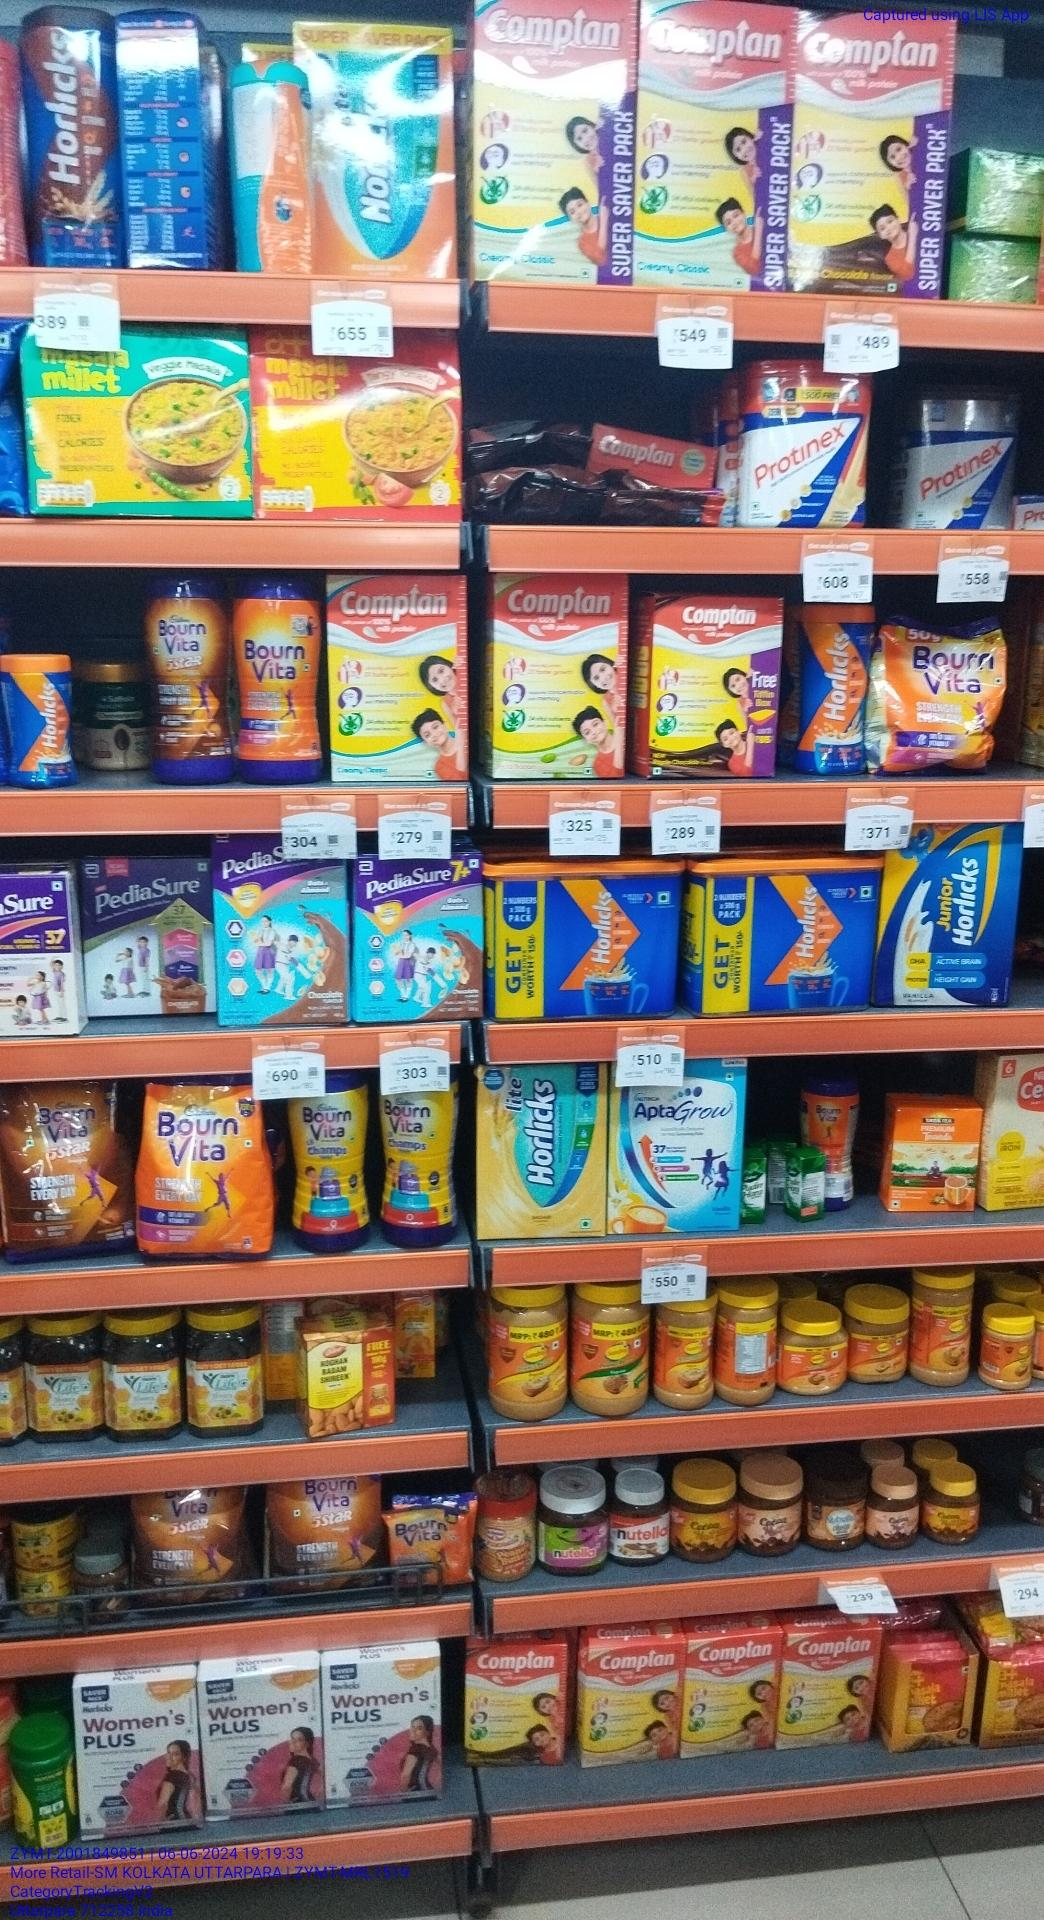BOURN_VITA_500_G_JAR: (234, 578, 315, 787)
BOURN_VITA_750_G_POUCH: (130, 1074, 267, 1270)
BOURN_VITA_CHAMPS_500_G_JAR: (289, 1076, 368, 1252), (382, 1090, 454, 1247)
BOURN_VITA_FIVE_STAR_MAGIC_500_G_JAR: (148, 577, 230, 784)
BOURN_VITA_FIVE_STAR_MAGIC_750_G_POUCH: (0, 1080, 120, 1265)
COMPLAN_CHOCOLATE_1_KG_PACK: (795, 8, 946, 297)
COMPLAN_CHOCOLATE_500_GMS_PACK: (647, 591, 777, 779), (469, 1648, 563, 1766)
COMPLAN_CREAMY_CLASSIC_500_G_PACK: (328, 574, 468, 778)
COMPLAN_KESAR_BADAM_500_GMS_PACK: (687, 1637, 779, 1758), (586, 1648, 680, 1766), (784, 1633, 874, 1744)
COMPLAN_PISTA_BADAM_500_GMS_PACK: (492, 571, 620, 776)
HORLICK_CHOCOLATE_1_KG_JAR: (28, 1, 121, 275)
HORLICK_CLASSIC_MALT_200_G_JAR: (4, 655, 75, 790)
HORLICK_CLASSIC_MALT_500_G_JAR: (804, 608, 867, 775)
HORLICK_MALT_1_KG_CONTAINER: (489, 861, 690, 1019), (698, 858, 868, 1015)
PEDIASURE_7_PLUS_CHOCOLATE_400_G_PACK: (357, 860, 481, 1019)
PEDIASURE_CHOCOLATE_500_G_PACK: (86, 860, 206, 1019)
PROTINEX_ORIGINAL_400_G_JAR: (914, 393, 1016, 529)
PROTINEX_VANILLA_400_G_JAR: (751, 355, 868, 524)
